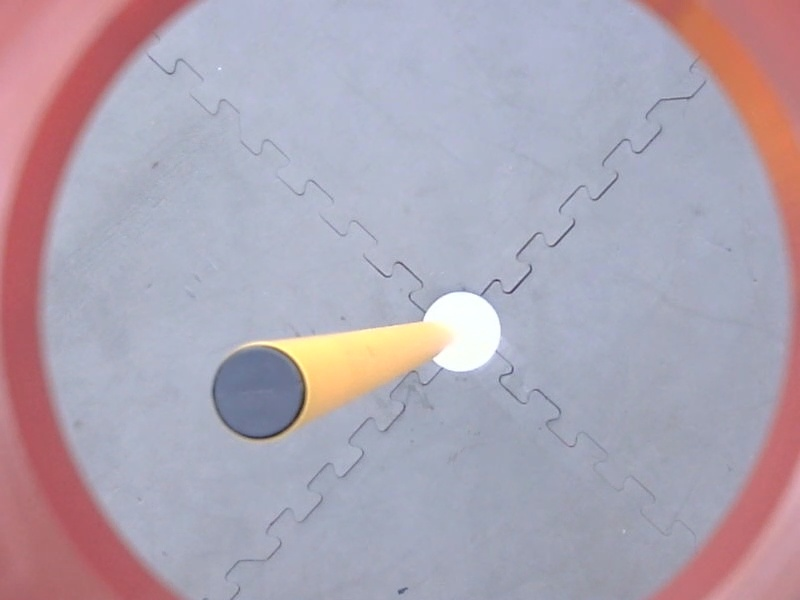tip: (202, 337, 314, 445)
